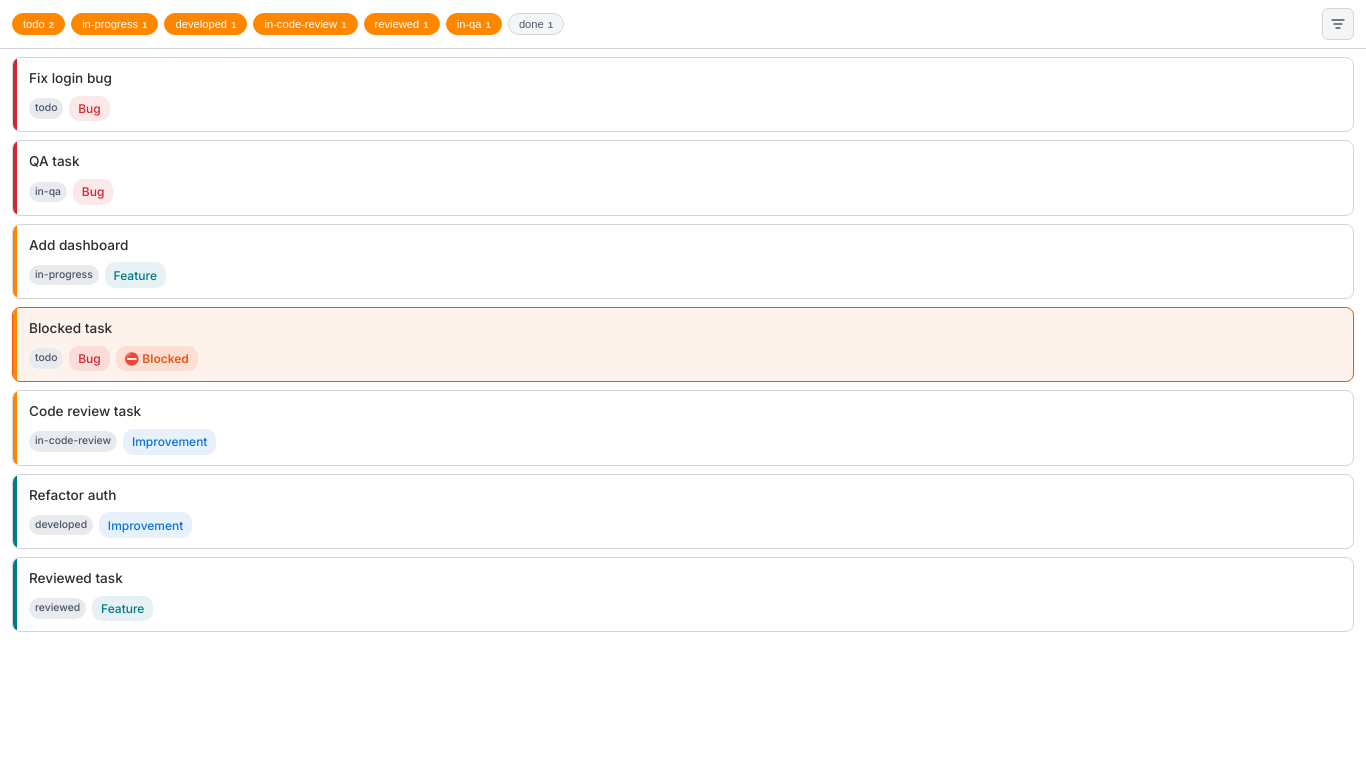
Test case: MobileTaskList › filter chips › toggling "done" chip on shows done tasks
The width and height of the screenshot is (1366, 768).
Check: the element "Done task" is not shown
# Toggle on the done chip
Click the button "done 1": (536, 24) top-left (508, 13), bottom-right (564, 35)
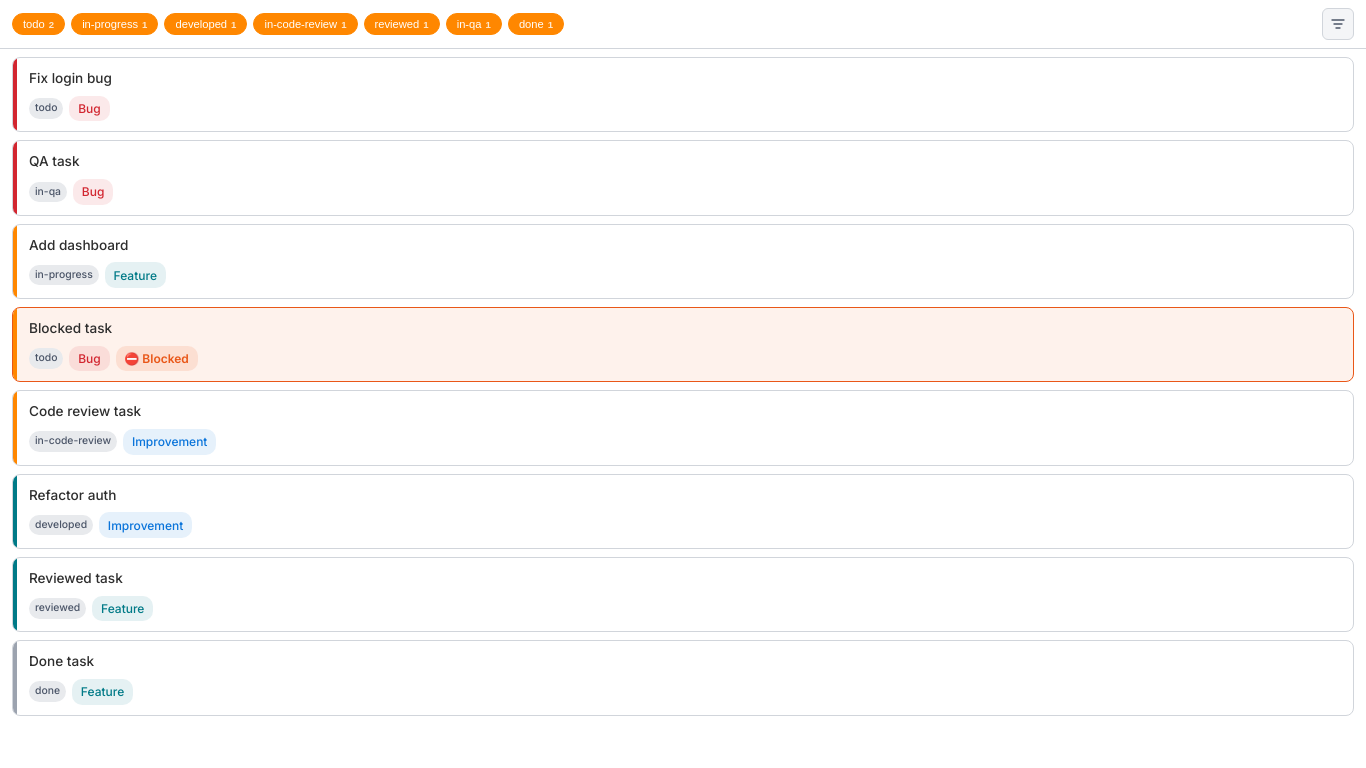
Check: the element "Done task done Feature" is shown, box top-left (12, 640), bottom-right (1354, 716)
